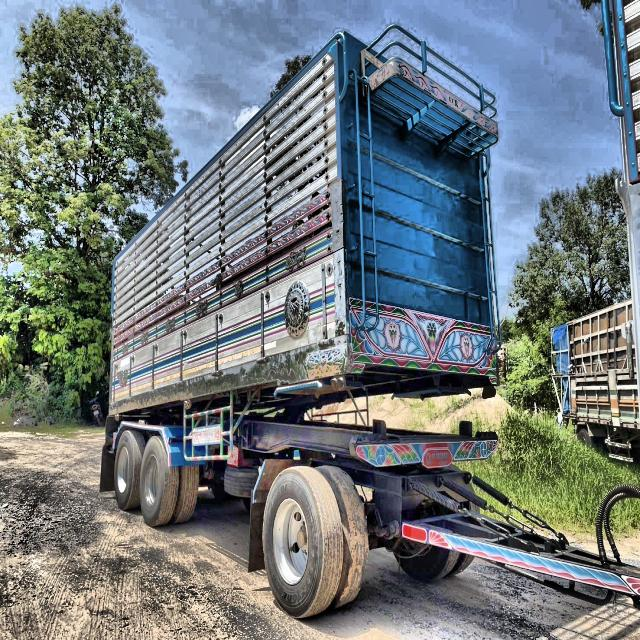trailer: (95, 21, 524, 640)
